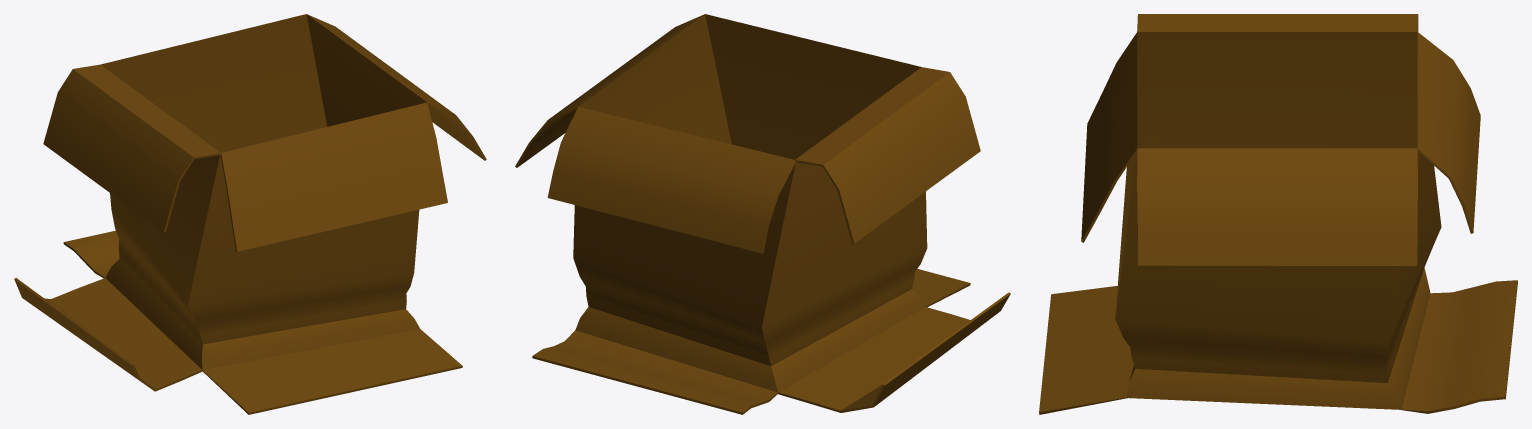
Rendered from Caja_02.fbx.
3 renders of one model, left to right at view 1: azimuth 30°, elevation 25°; view 2: azimuth 150°, elevation 25°; view 3: azimuth 270°, elevation 25°, orthographic. The views are drawn at different scales.
Visible parts, largest first — view 1: Caja_02; view 2: Caja_02; view 3: Caja_02.
Boxes of the visible parts, x1,y1,x2,y2 form: Caja_02: (14, 14, 486, 414); Caja_02: (515, 14, 1010, 414); Caja_02: (1039, 14, 1517, 414).
Bounding box in the file's own units: 135 × 85.54 × 136.
